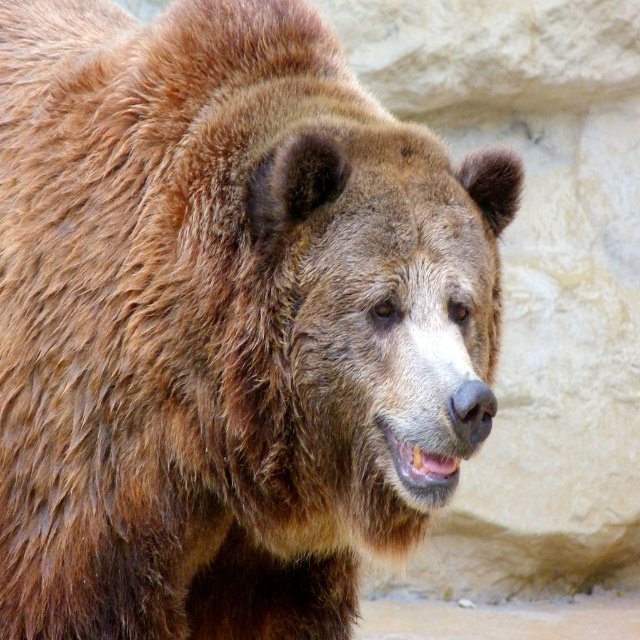Brown bear: (0, 0, 526, 639)
